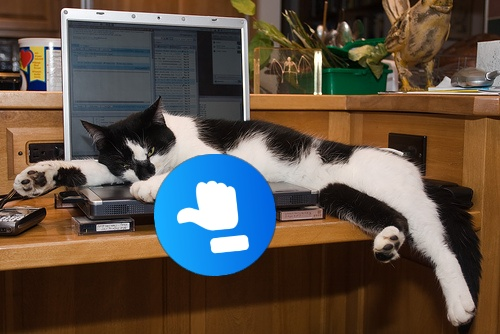like: (154, 154, 276, 276)
